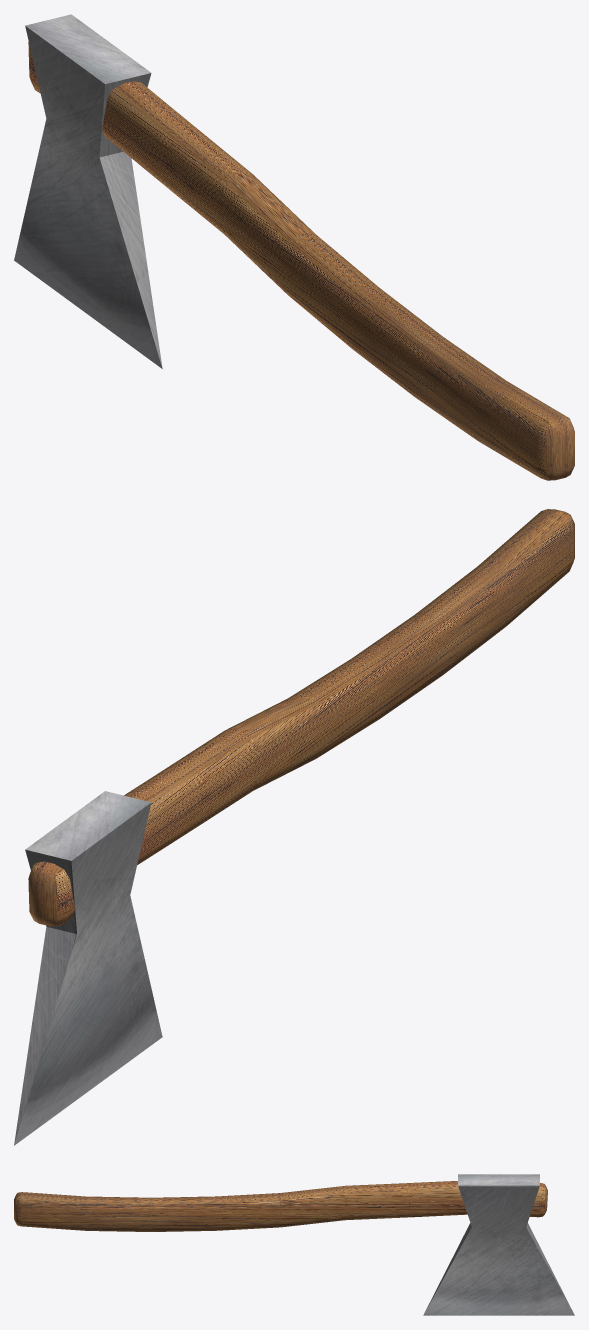
Rendered from Axe.FBX.
The picture shows the model from 3 angles, top to bottom: view 1: azimuth 30°, elevation 25°; view 2: azimuth 150°, elevation 25°; view 3: azimuth 270°, elevation 25°; orthographic projection. The views are drawn at different scales.
Parts seen in each view (by area): view 1: ChamferBox001, Box001; view 2: ChamferBox001, Box001; view 3: ChamferBox001, Box001.
Boxes of the visible parts, x1,y1,x2,y2 form: ChamferBox001: (28,42,574,480); Box001: (14,14,162,368); ChamferBox001: (28,509,574,926); Box001: (14,791,162,1145); ChamferBox001: (14,1181,547,1231); Box001: (423,1174,574,1315).
Bounding box in the file's own units: 21.96 × 120 × 451.
